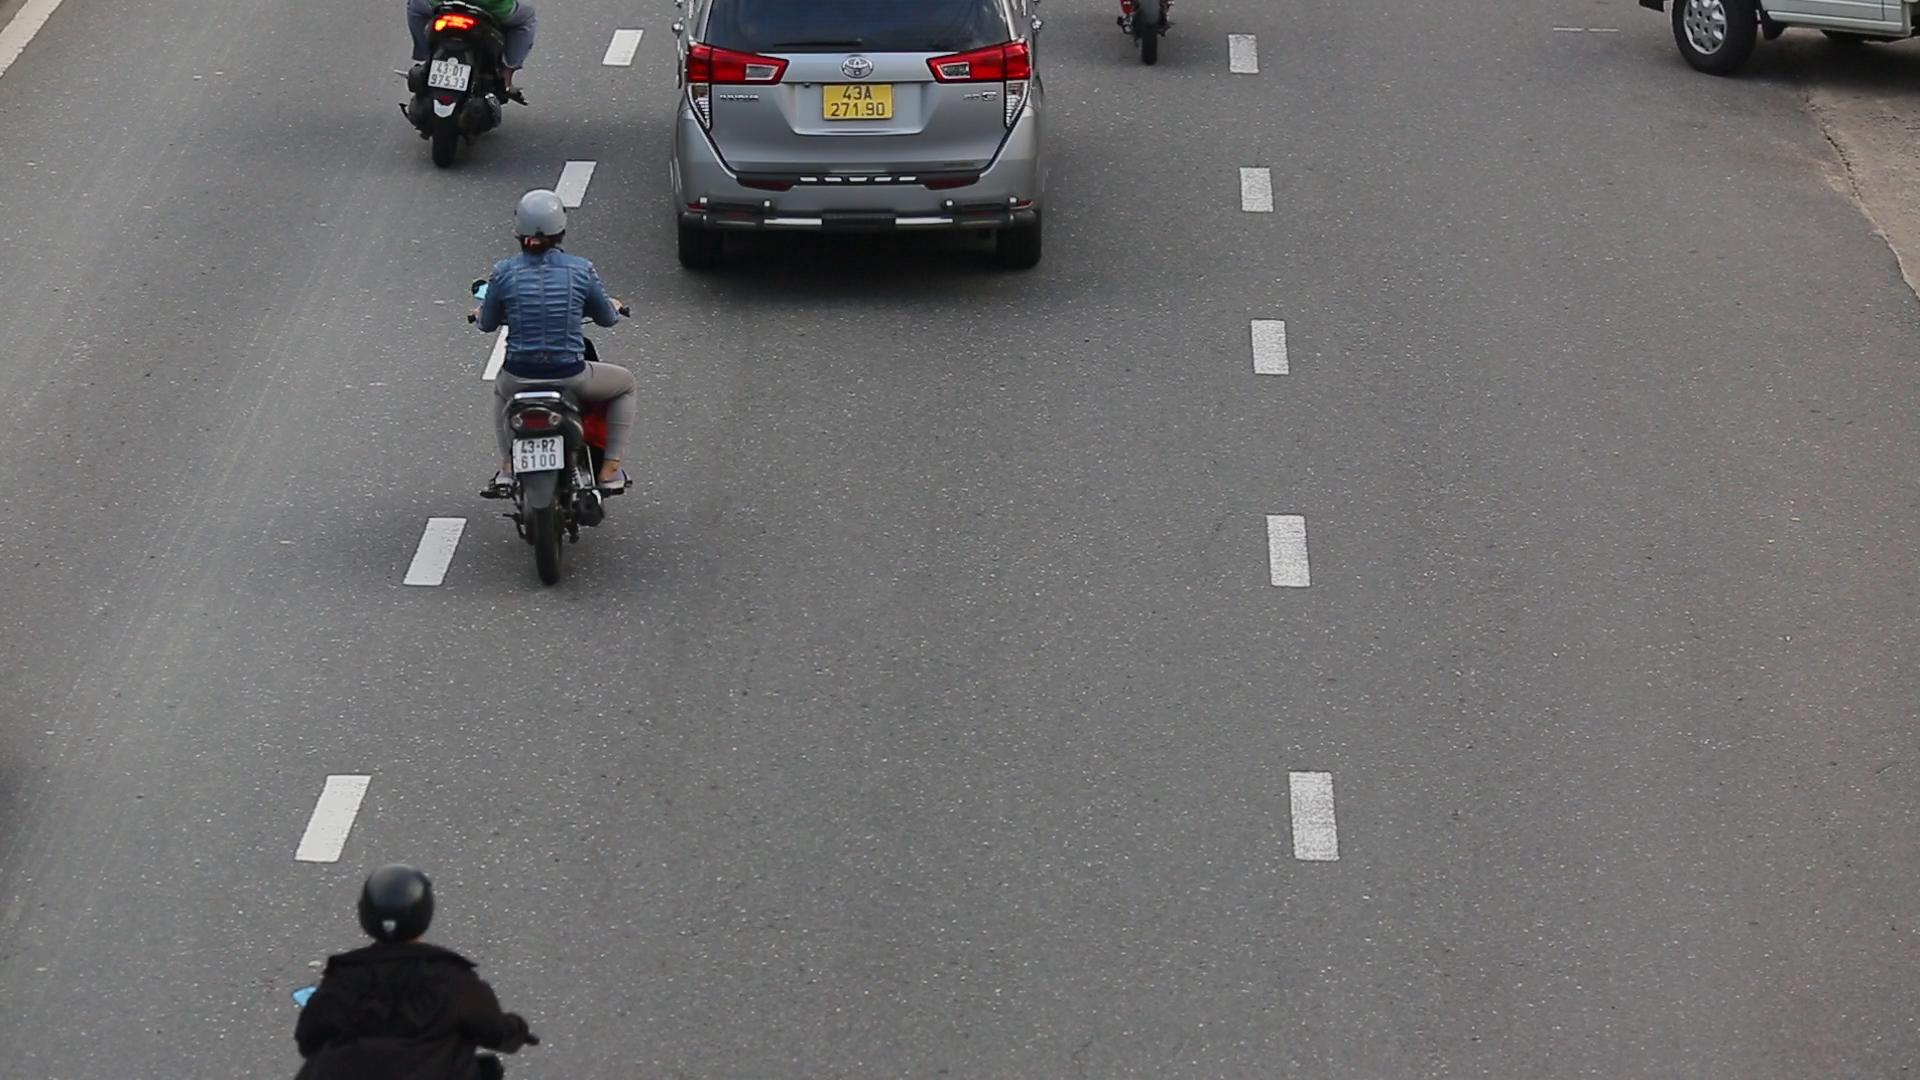motobike: (448, 187, 669, 613)
